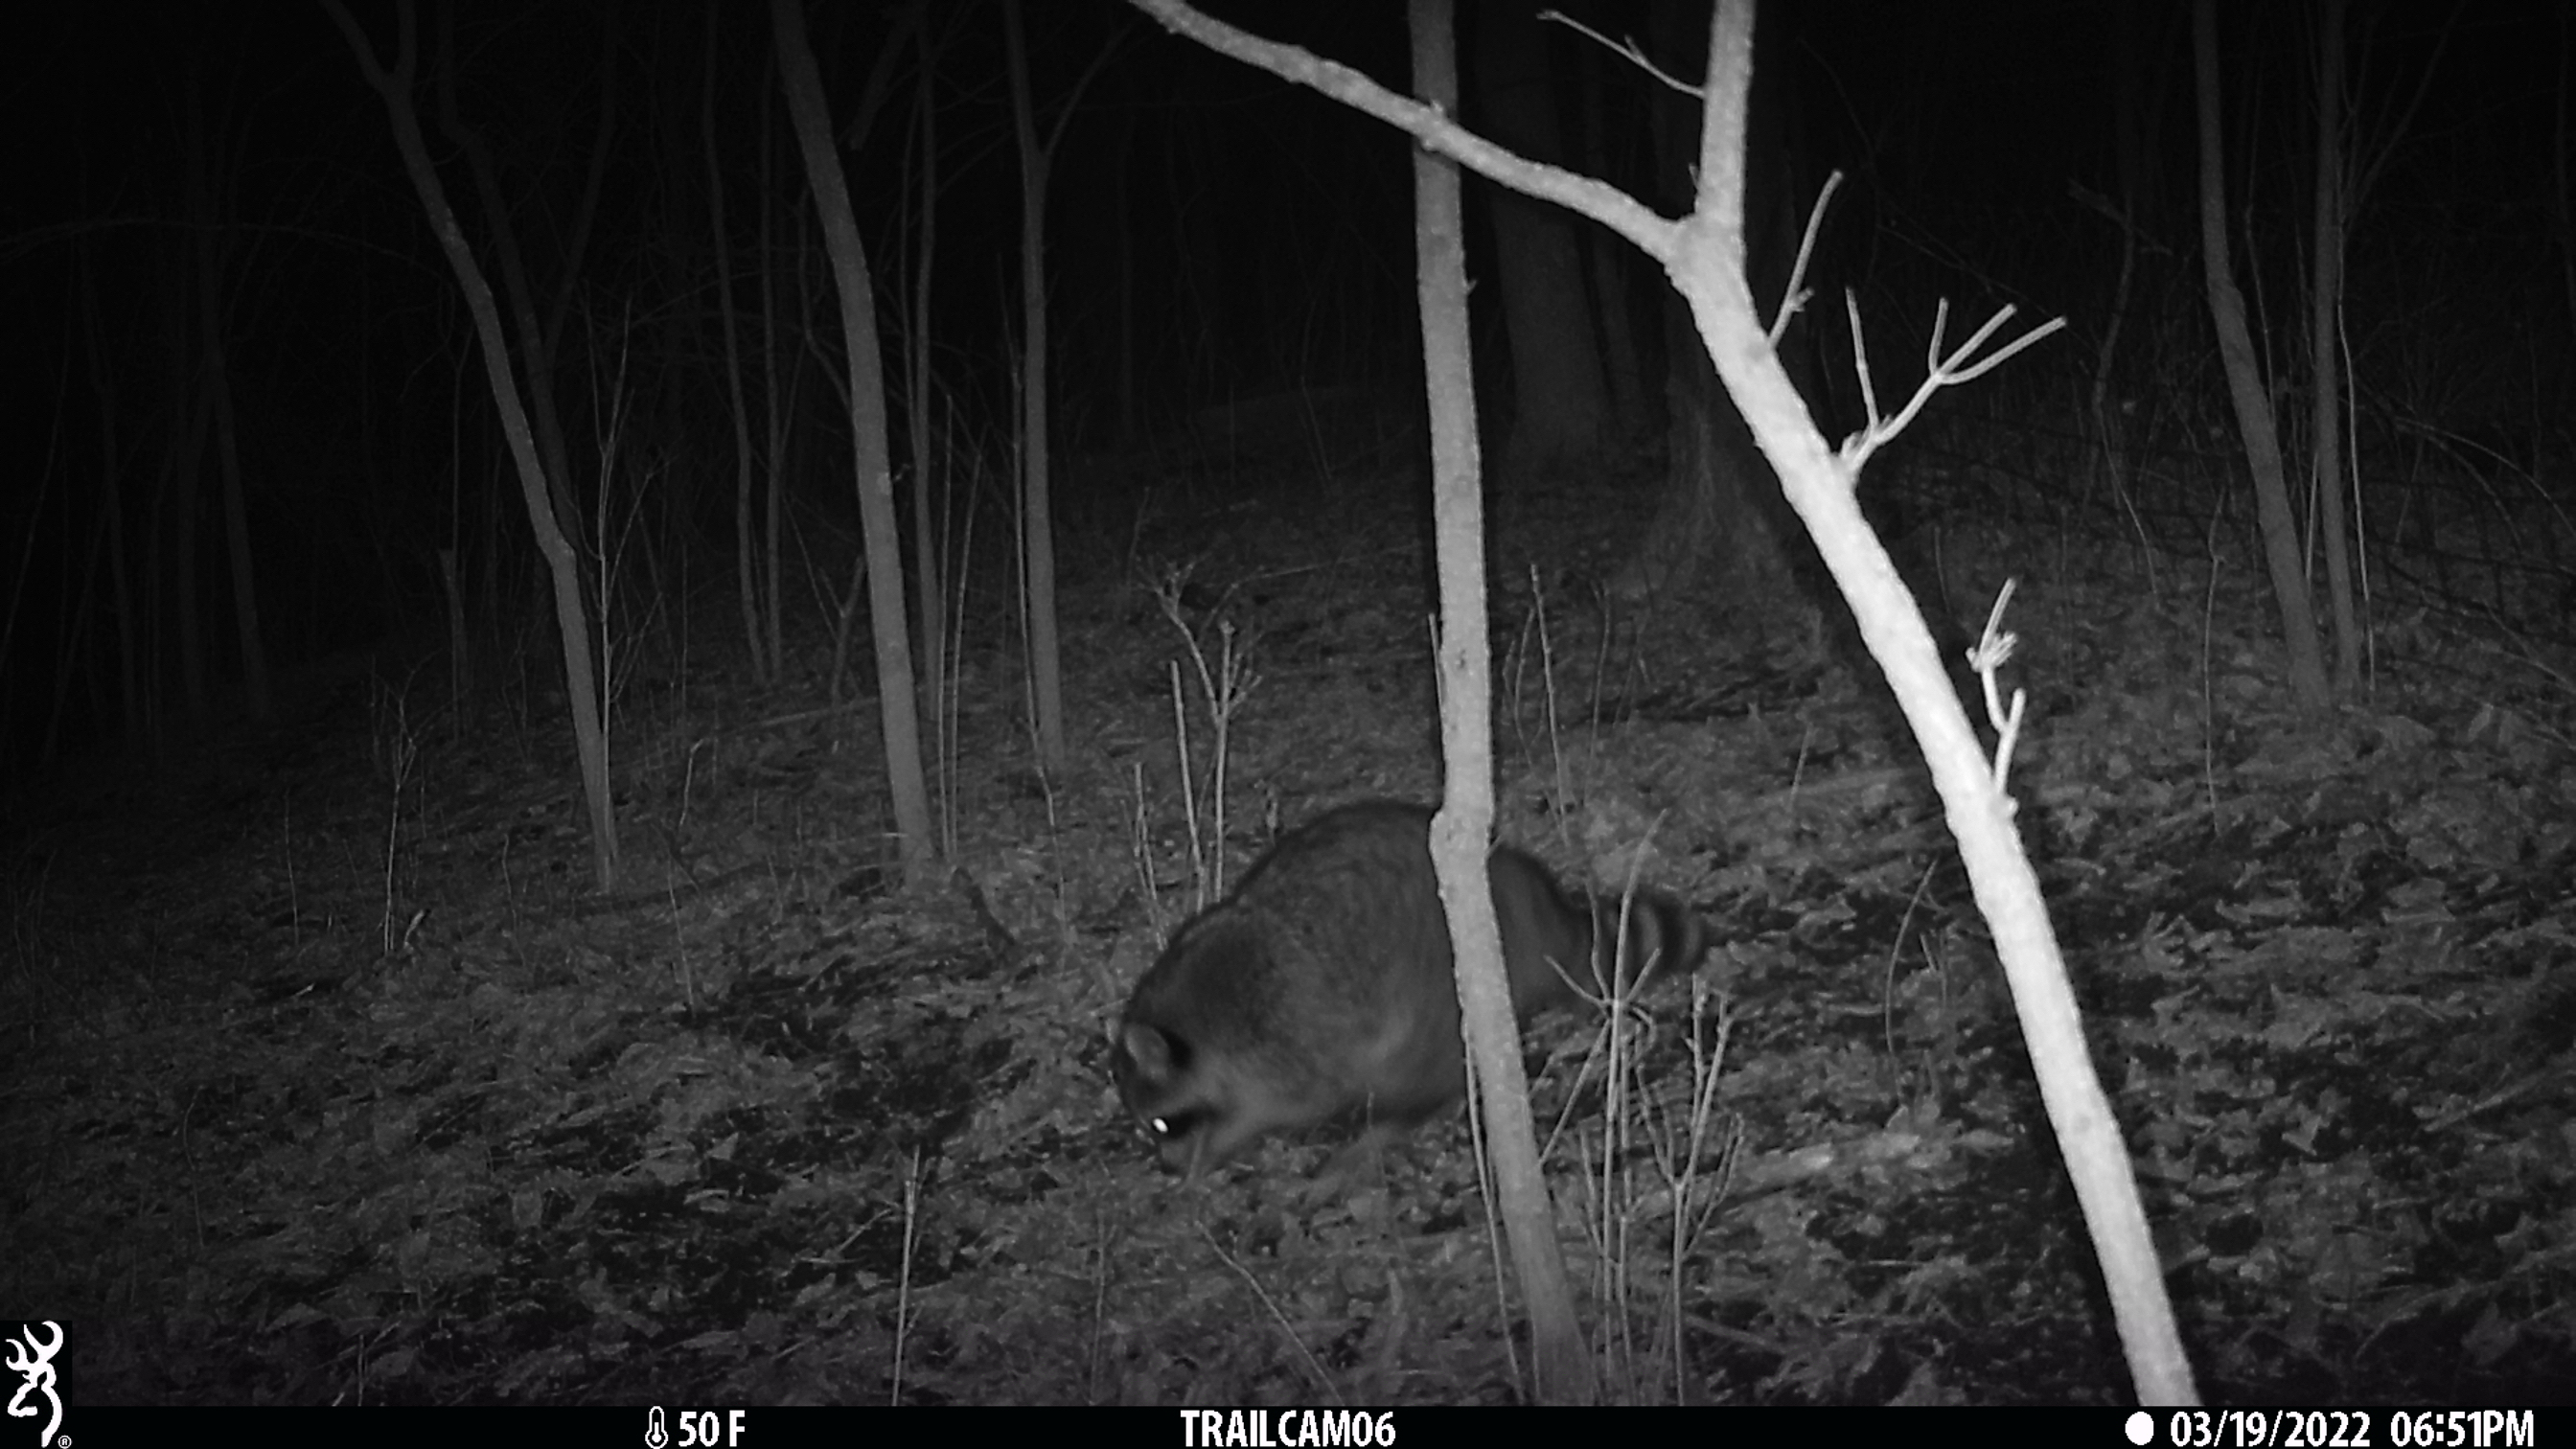Raccoon: (1108, 791, 1698, 1173)
